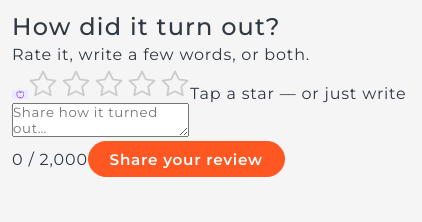
Test: ReviewComposer › surfaces the server rejection reason (e.g. moderation) inline
The width and height of the screenshot is (422, 222).
Type "Really great recipe!" into the text box. click: (100, 120)
box: [12, 103, 189, 137]
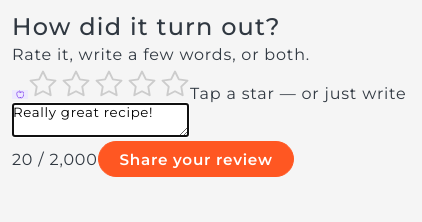
Click the button "Share your review". click: (196, 159)
box: [98, 141, 294, 177]
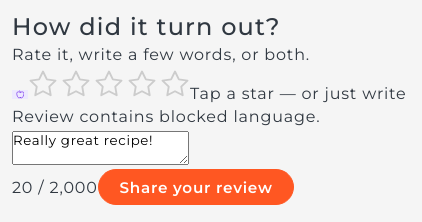
Expected: the message shows "blocked language", [12, 107, 320, 126]
